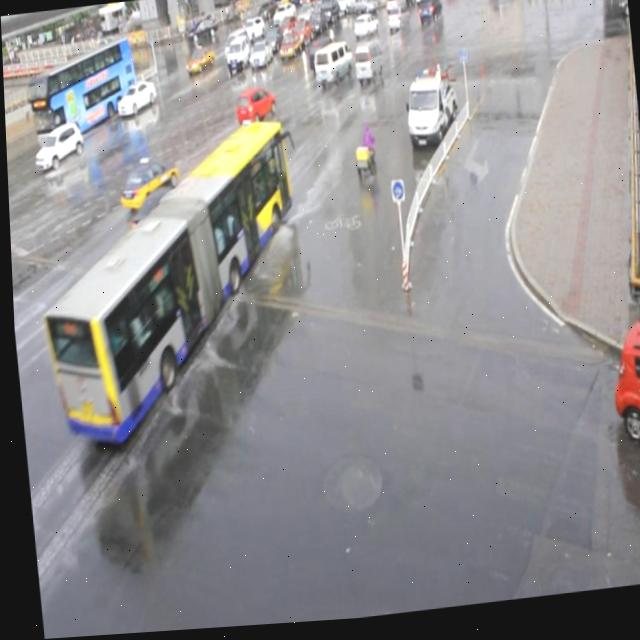bus: (400, 74, 458, 155)
car: (602, 325, 640, 469), (126, 184, 195, 254), (115, 156, 179, 211), (32, 120, 85, 171), (223, 119, 272, 172), (233, 87, 275, 130), (114, 79, 157, 118), (305, 38, 342, 77), (182, 47, 216, 77), (351, 16, 379, 45), (276, 36, 301, 68), (248, 45, 274, 74), (240, 19, 266, 47), (289, 23, 312, 52), (384, 10, 409, 36), (262, 29, 284, 57), (275, 20, 298, 46)
truck: (310, 43, 354, 91), (351, 44, 384, 89), (220, 30, 251, 63), (227, 39, 254, 75)
van: (24, 120, 310, 450), (24, 38, 142, 148)
